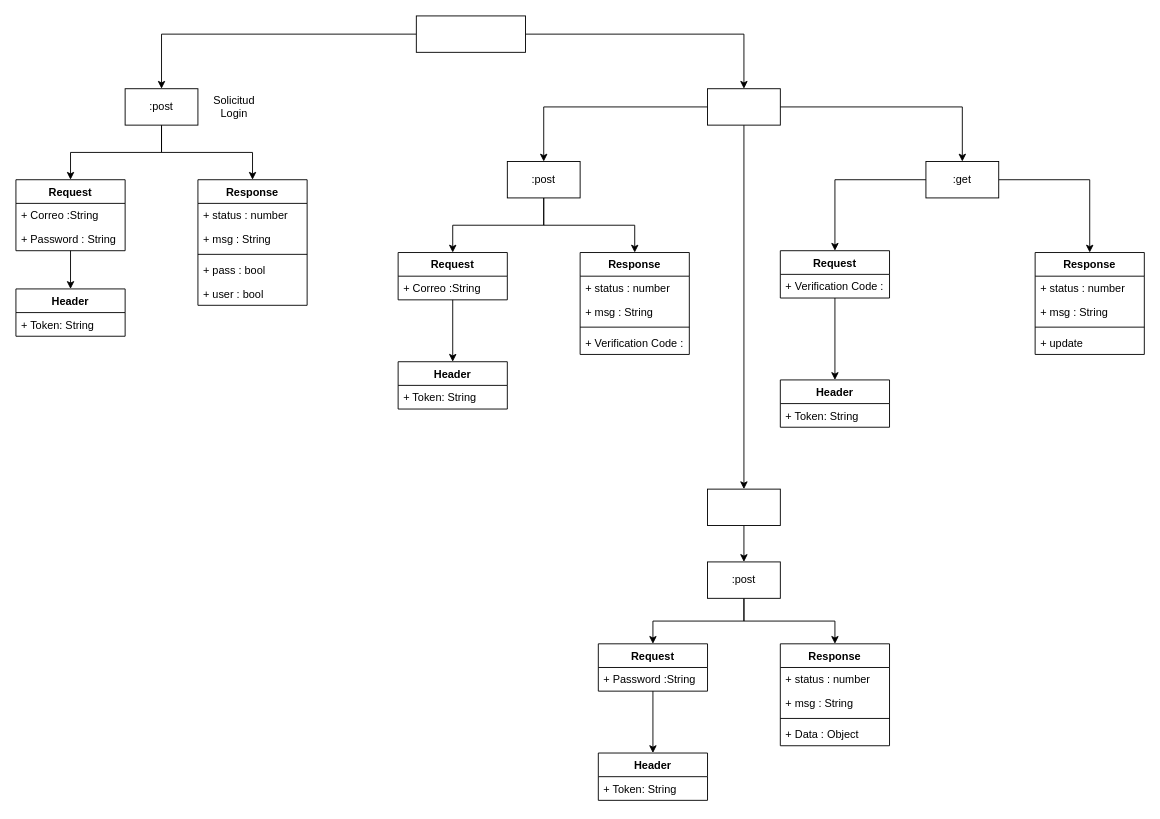
Some shapes in this 1160 by 819 pixel diagram are drawn without their labels. The box of each missing label's shape, as (x1, y1, x2, y2) in pixels:
/Login: (415, 15, 526, 52)
/Recovery: (707, 88, 780, 125)
/Update: (707, 488, 780, 526)
